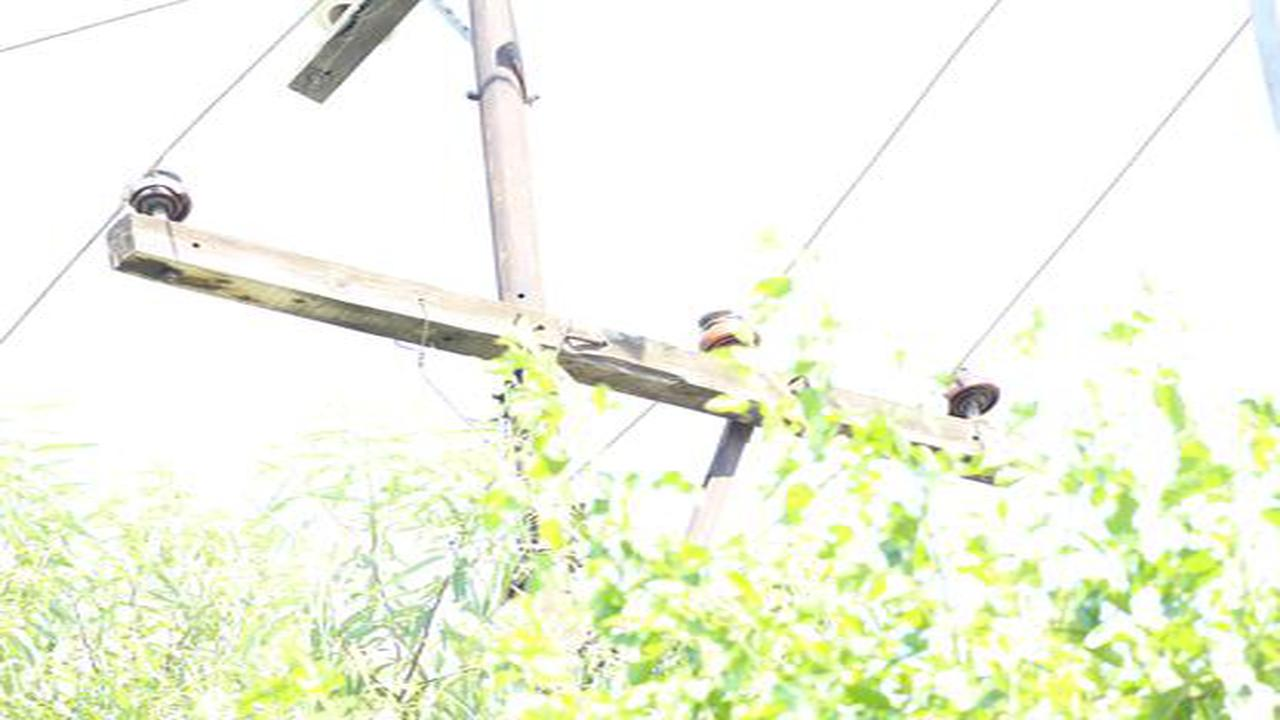defect_pin: (122, 162, 194, 227)
insulator_pin: (937, 364, 1010, 426), (696, 306, 764, 359)
